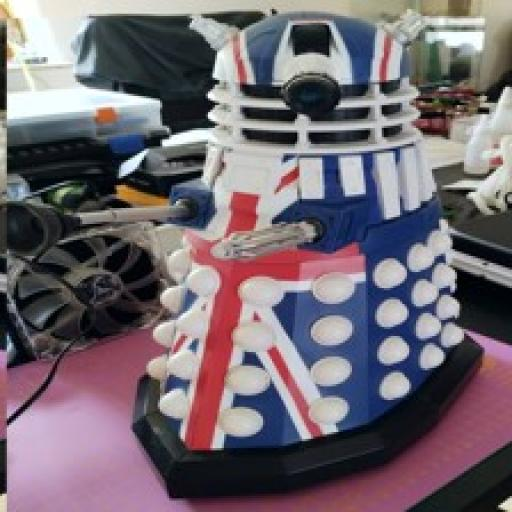dalek: (5, 10, 484, 503)
